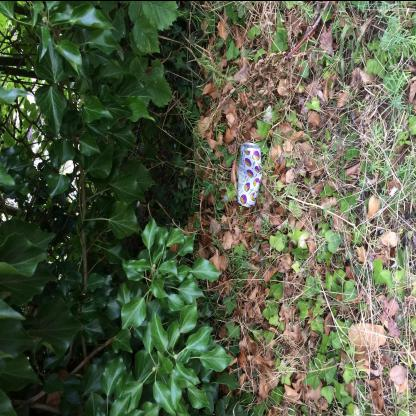metal: (237, 141, 262, 207)
